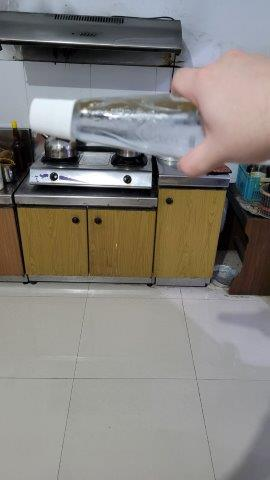botolkaca: (30, 98, 200, 158)
